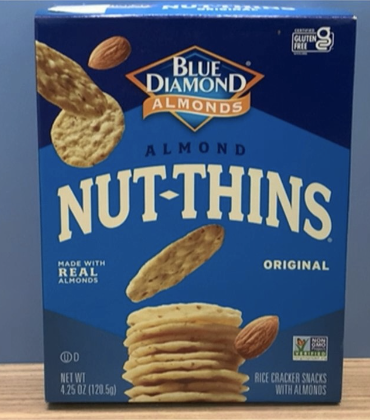crackers_150g: (55, 25, 334, 399)
